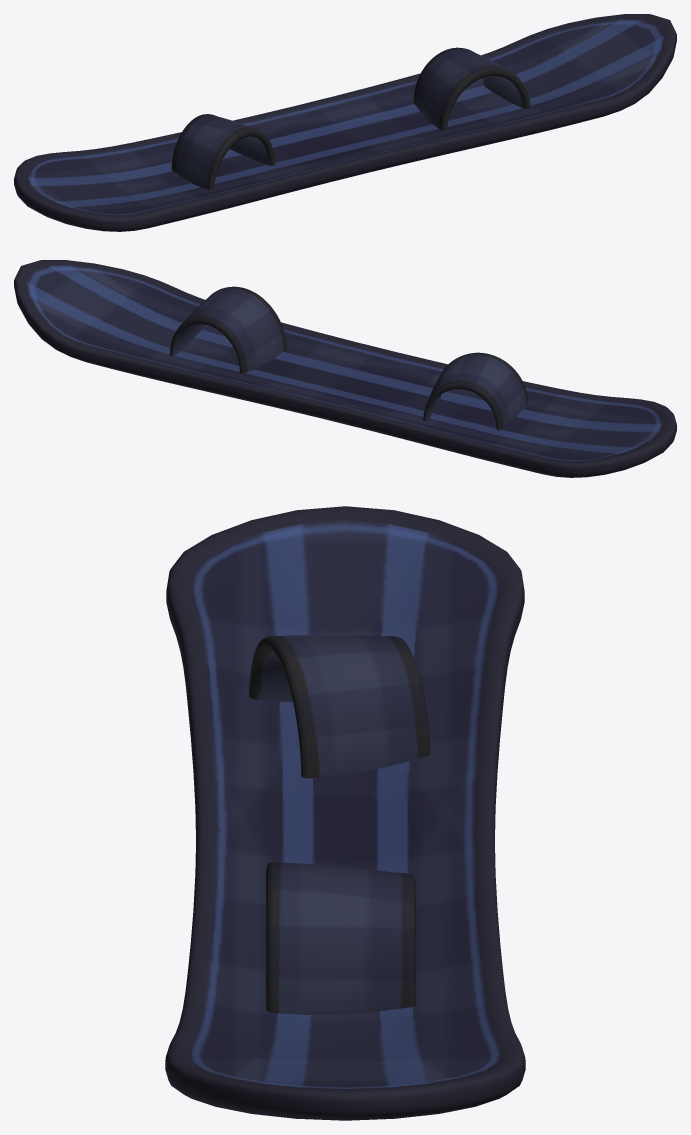
File: snowboard.fbx
3 views of the same model, one above another, from view 1: azimuth 30°, elevation 25°; view 2: azimuth 150°, elevation 25°; view 3: azimuth 270°, elevation 25° (orthographic). The views are drawn at different scales.
Visible parts, largest first — view 1: Cube; view 2: Cube; view 3: Cube.
Boxes of the visible parts, left/top/right/bottom form: Cube: left=14, top=14, right=676, bottom=231; Cube: left=14, top=260, right=676, bottom=477; Cube: left=165, top=506, right=525, bottom=1120.
Size of the model in its own units: 391 by 40.85 by 94.49.
